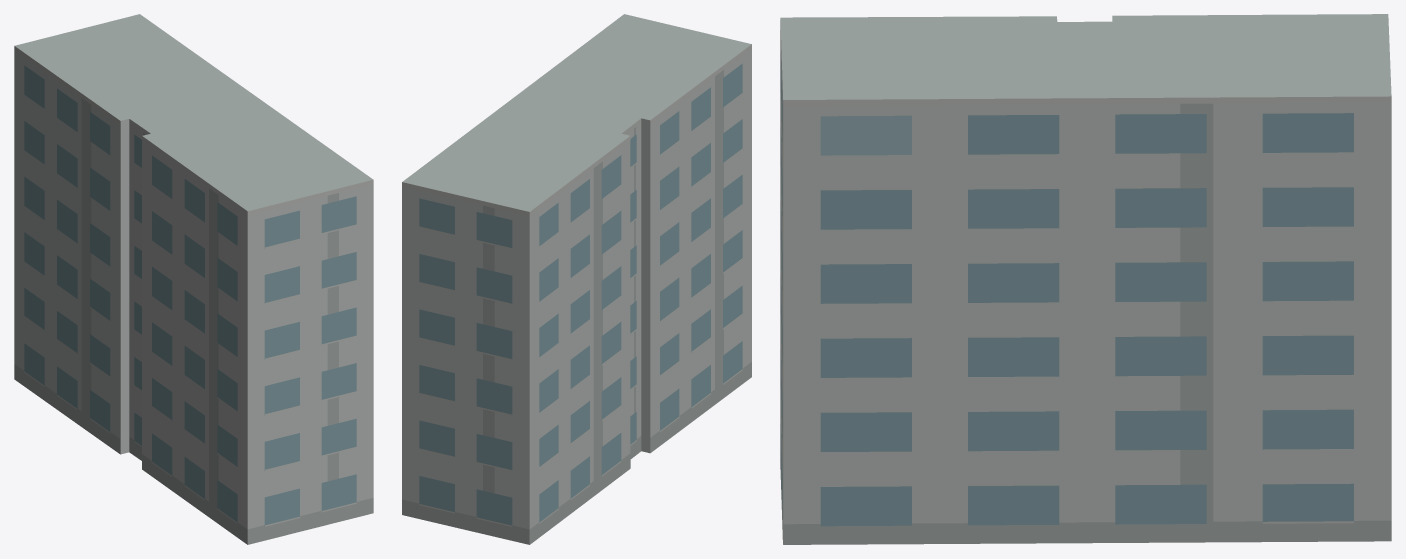
Rendered from survey-upis-32636141.glb.
The picture shows the model from 3 angles, left to right: view 1: azimuth 30°, elevation 25°; view 2: azimuth 150°, elevation 25°; view 3: azimuth 270°, elevation 25°; orthographic projection. The views are drawn at different scales.
Visible parts, largest first — view 1: survey-upis-32636141.tmp; view 2: survey-upis-32636141.tmp; view 3: survey-upis-32636141.tmp.
Part boxes in pixels (x1,y1,x2,y2): survey-upis-32636141.tmp: [14, 14, 373, 544]; survey-upis-32636141.tmp: [402, 14, 751, 544]; survey-upis-32636141.tmp: [780, 14, 1391, 544].
Bounding box in the file's own units: 7.43 × 17.9 × 22.3.
